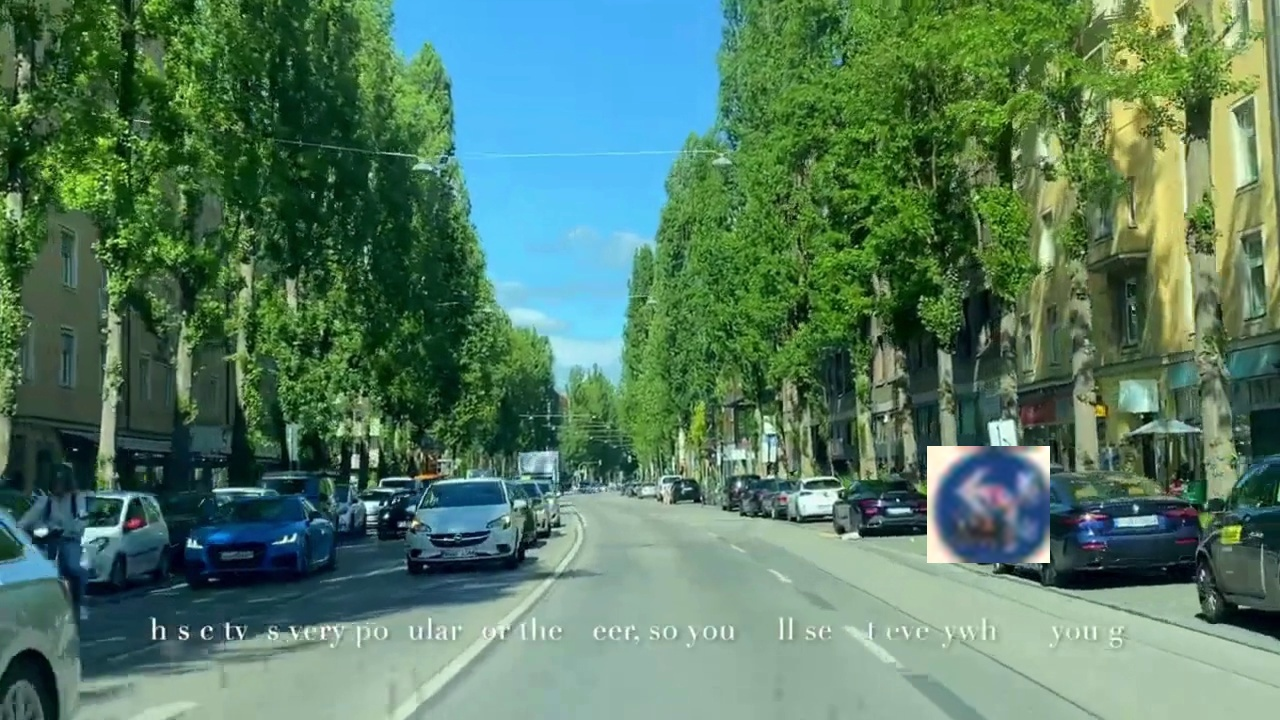Turn left: (927, 446, 1050, 563)
